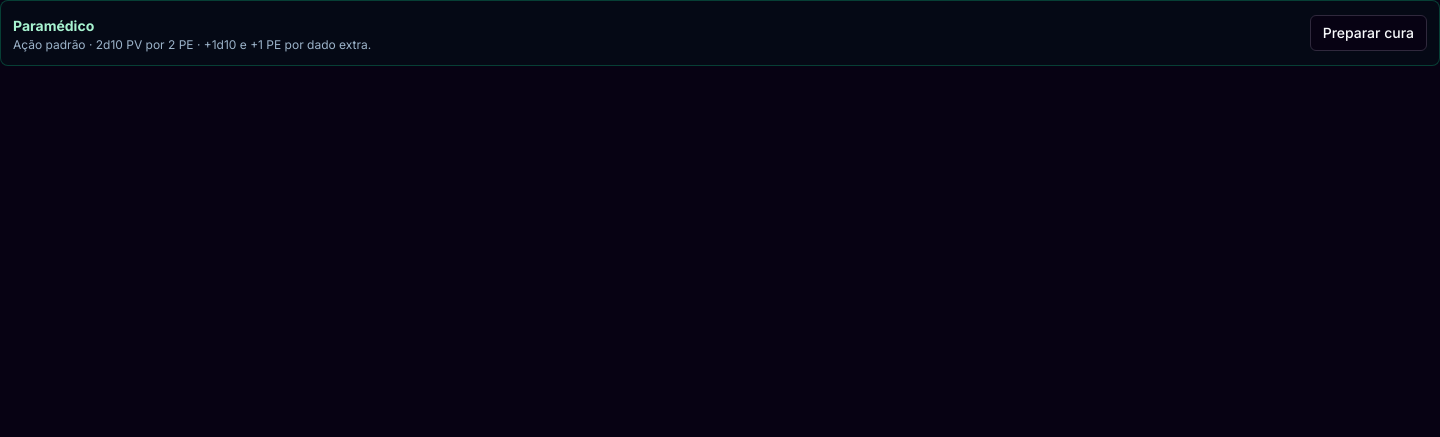
Test: Paramédico confirmado no servidor › cobra dados extras só na confirmação e exige adjacência do aliado
Later steps or results of the test are not shown.
Click the button "Preparar cura" at [1368, 33], box [1310,15,1427,51]
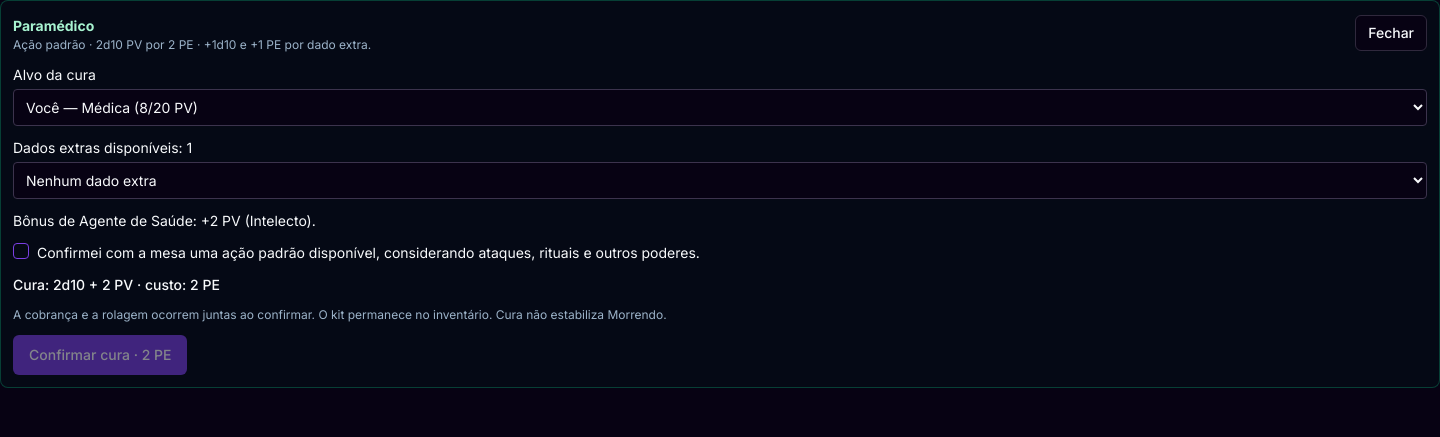
Select "Aliado (4/20 PV)" in the dropdown named "Alvo do Paramédico" at [720, 108], box [13,89,1427,126]
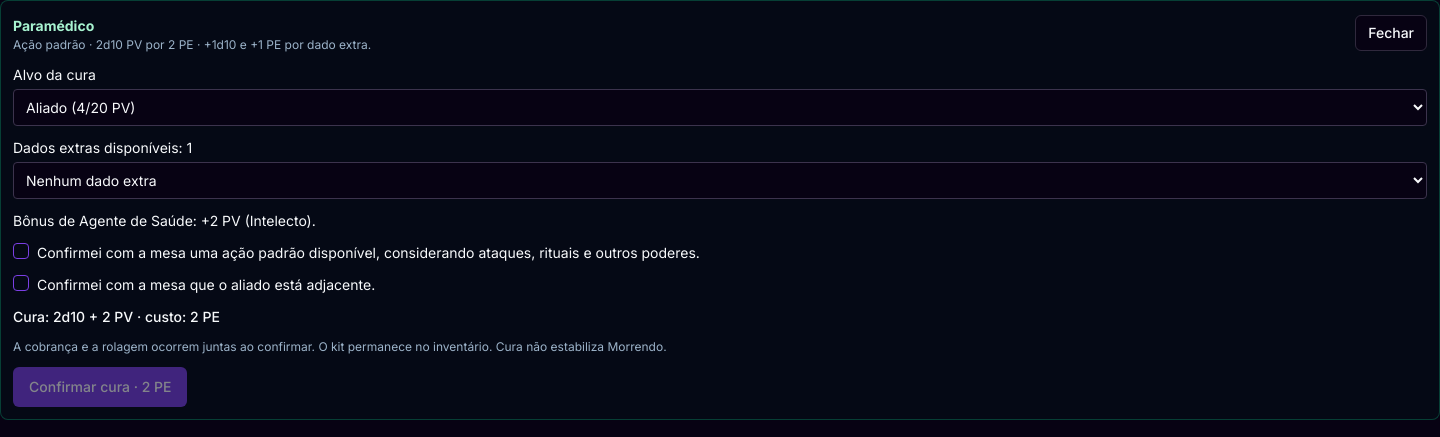
Select "+1d10 · +1 PE" in the dropdown named "Dados extras de Paramédico" at [720, 180], box [13,162,1427,199]
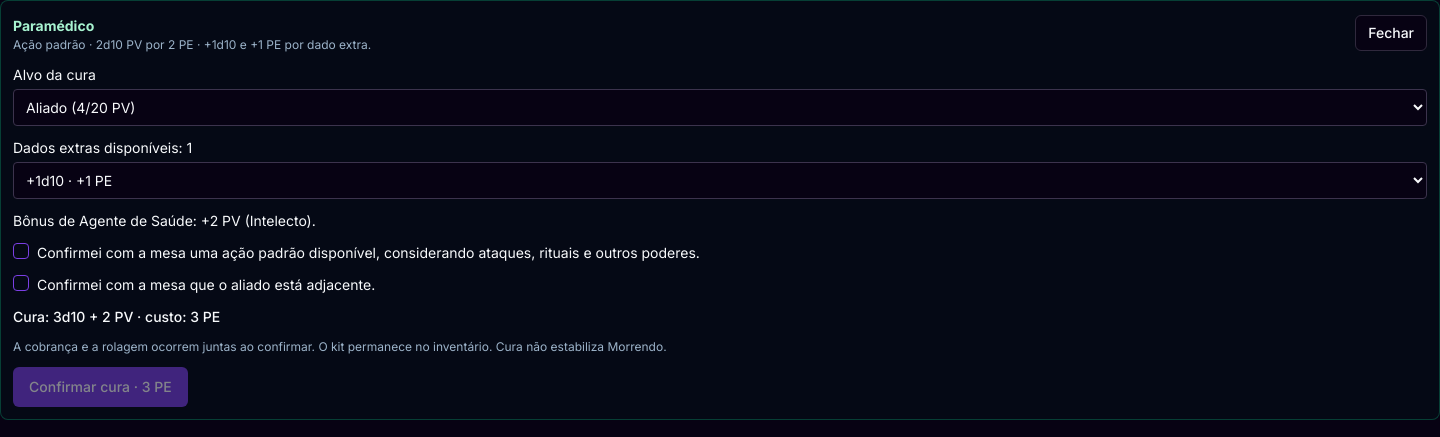
Click the text "Confirmei com a mesa uma ação padrão disponível" at [356, 252], box [13,243,700,261]
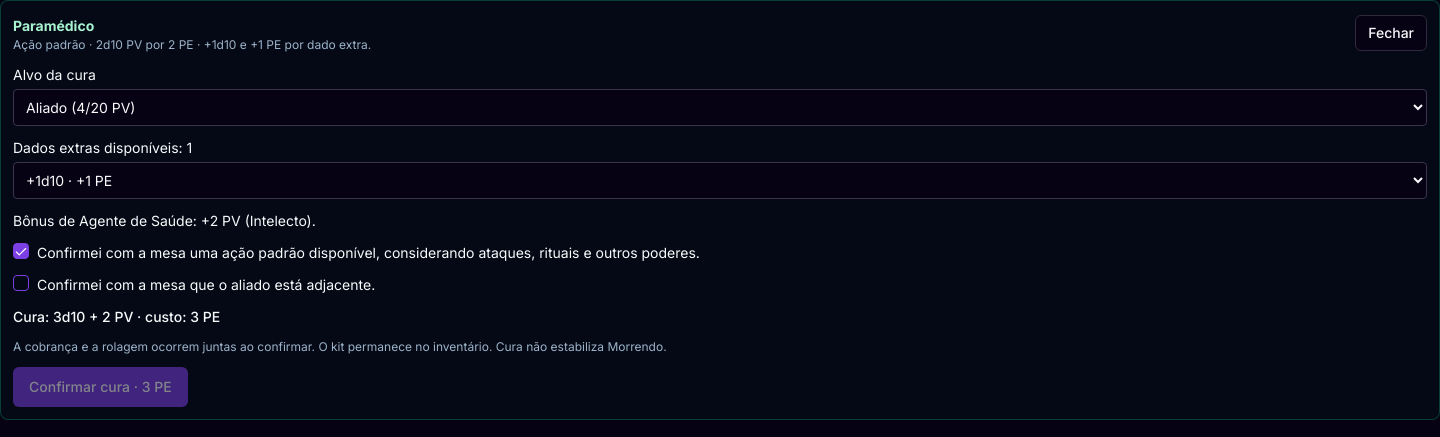
Now the button "Confirmar cura · 3 PE" is disabled, box [13,367,188,407]
